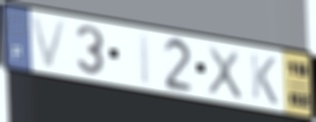2: (163, 37, 195, 97)
3: (73, 24, 106, 77)
I: (137, 30, 153, 88)
K: (248, 50, 280, 108)
V: (28, 12, 70, 72)
X: (205, 42, 245, 102)
